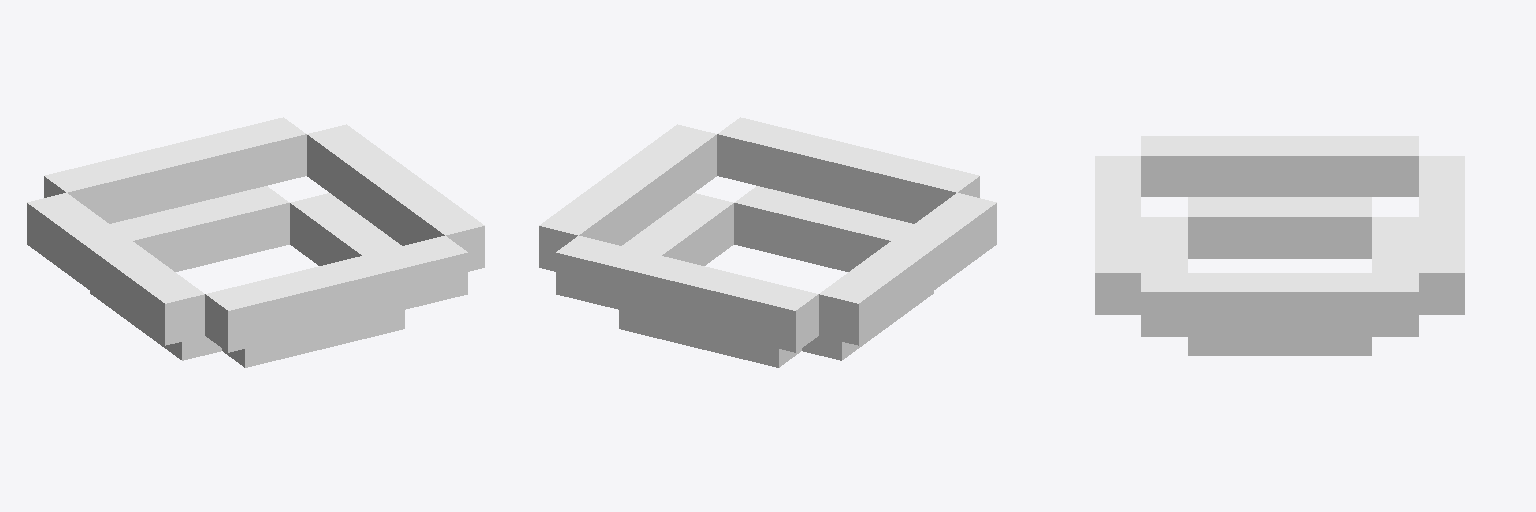
Rendered from Terminal3-0.obj.
The picture shows the model from 3 angles: view 1: azimuth 30°, elevation 25°; view 2: azimuth 150°, elevation 25°; view 3: azimuth 270°, elevation 25°; orthographic projection.
Parts seen in each view (by area): view 1: object 1; view 2: object 1; view 3: object 1.
Part boxes in pixels (x1,y1,x2,y2): object 1: (27,117,484,367); object 1: (539,117,996,367); object 1: (1095,136,1464,355).
Size of the model in its own units: 0.8 by 0.2 by 0.8.